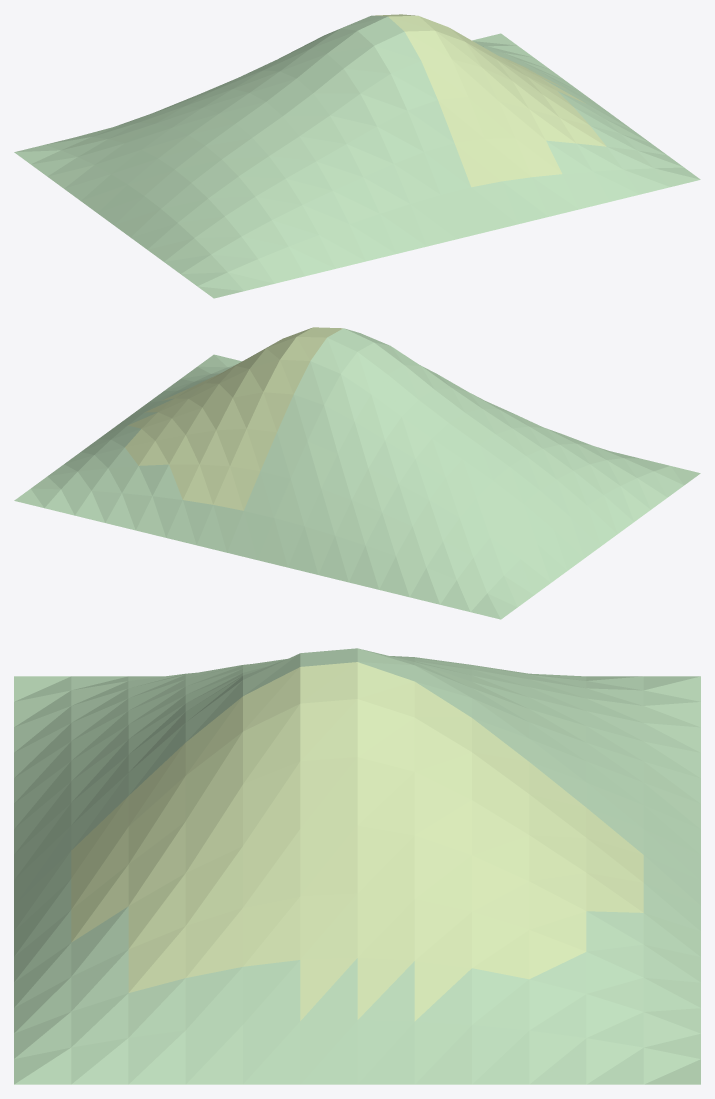
Rendered from SoftHill.fbx.
The picture shows the model from 3 angles, top to bottom: view 1: azimuth 30°, elevation 25°; view 2: azimuth 150°, elevation 25°; view 3: azimuth 270°, elevation 25°; orthographic projection. The views are drawn at different scales.
Visible parts, largest first — view 1: TerrainRidge; view 2: TerrainRidge; view 3: TerrainRidge.
Part boxes in pixels (<box>): TerrainRidge: <box>14,14,700,298</box>; TerrainRidge: <box>14,327,700,619</box>; TerrainRidge: <box>14,648,700,1084</box>.
Bounding box in the file's own units: 9 × 2.51 × 6.4.
